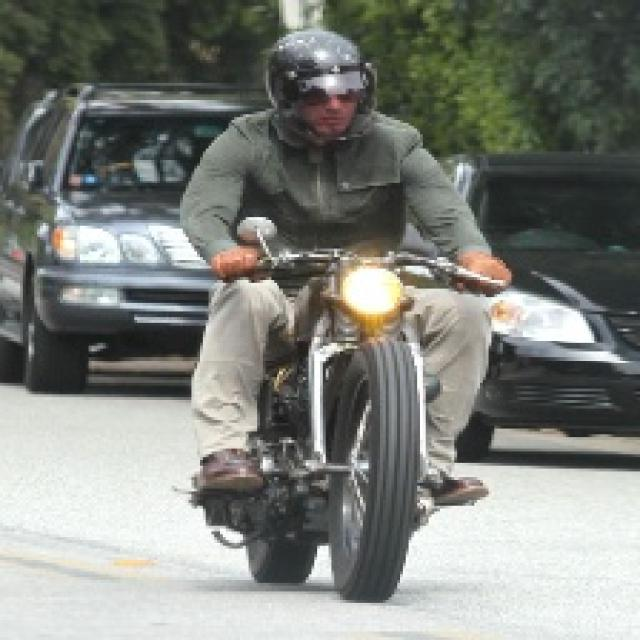motorcycle: (203, 247, 452, 606)
